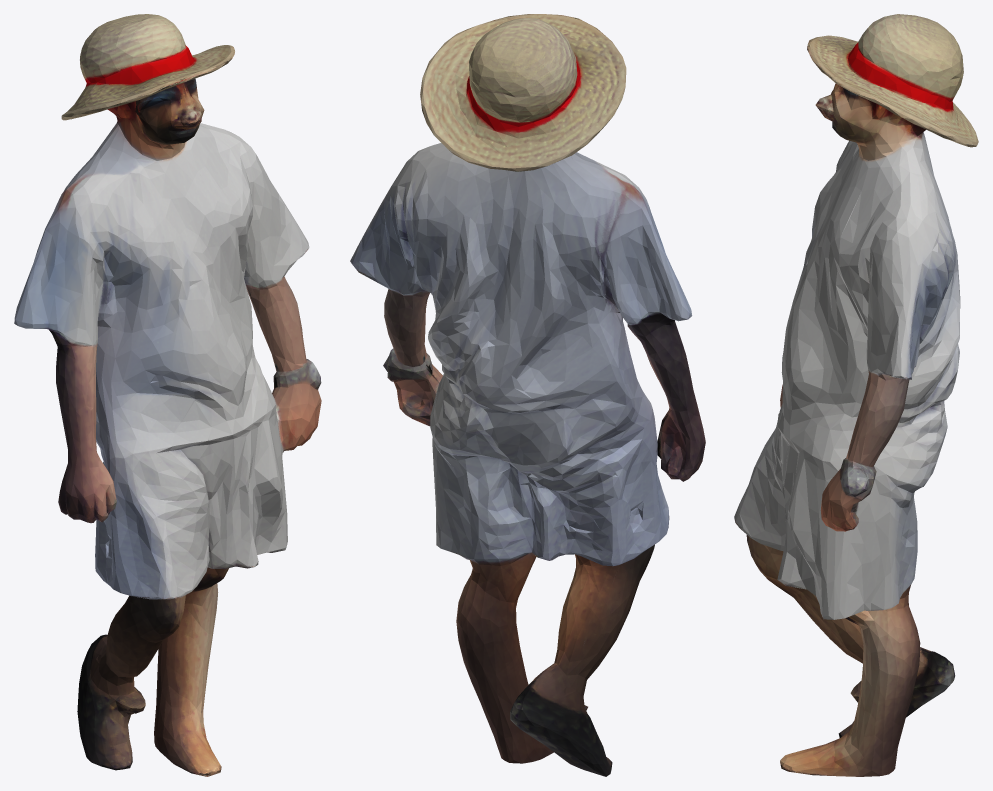
File: straw-hat.glb
3 renders of one model, left to right at view 1: azimuth 30°, elevation 25°; view 2: azimuth 150°, elevation 25°; view 3: azimuth 270°, elevation 25°, orthographic. The views are drawn at different scales.
Parts seen in each view (by area): view 1: world; view 2: world; view 3: world.
Boxes of the visible parts, x1,y1,x2,y2 form: world: (14, 14, 321, 776); world: (350, 14, 705, 776); world: (734, 14, 978, 776).
Bounding box in the file's own units: 0.4494 × 0.9989 × 0.2996.
Materials: 1 (1 with a texture image).
